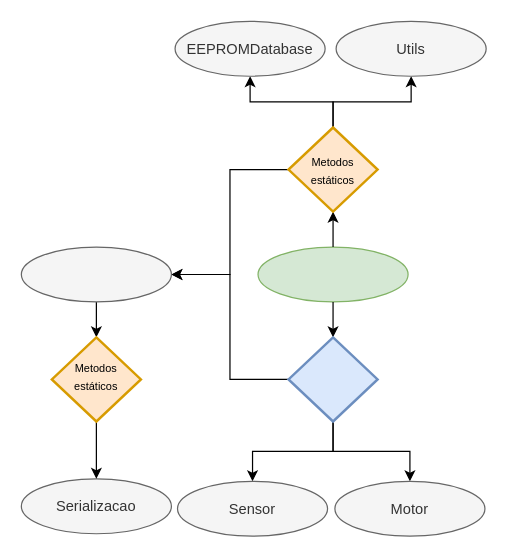
Some shapes in this 508 by 558 pixel diagram are drawn without their labels. Here are the shapes that lost their labels. From the top down, the centre of each, then its label:
At point (95, 274): "Configuração".
At point (332, 274): "nelson-code.ino".
At point (332, 379): "Instancia objetos".
